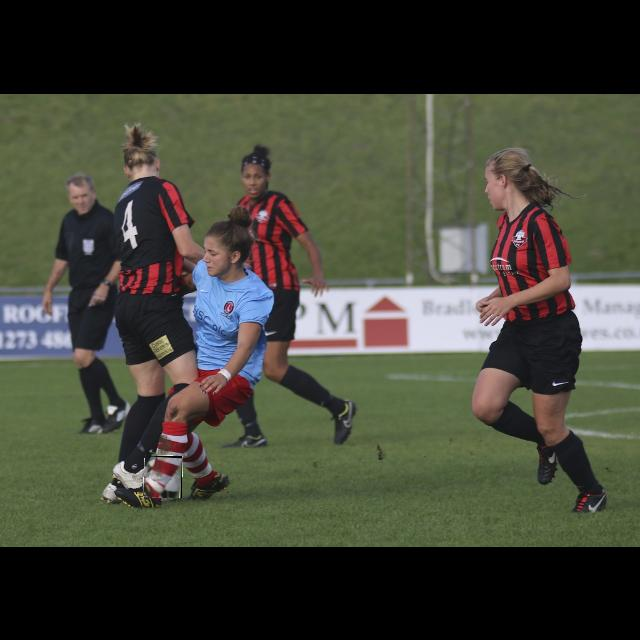Football: (144, 456, 182, 498)
